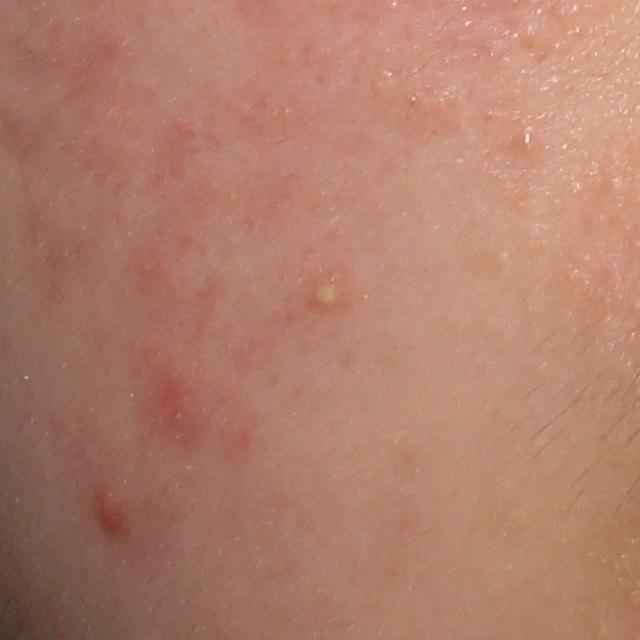comedo: (513, 125, 541, 158)
papule: (91, 483, 133, 544)
pustule: (303, 275, 348, 311)
